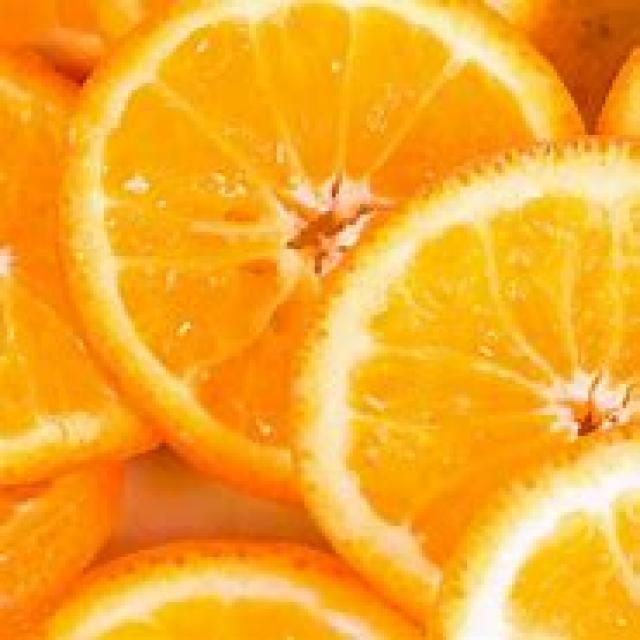Orange: (64, 2, 303, 494), (323, 154, 640, 458)
